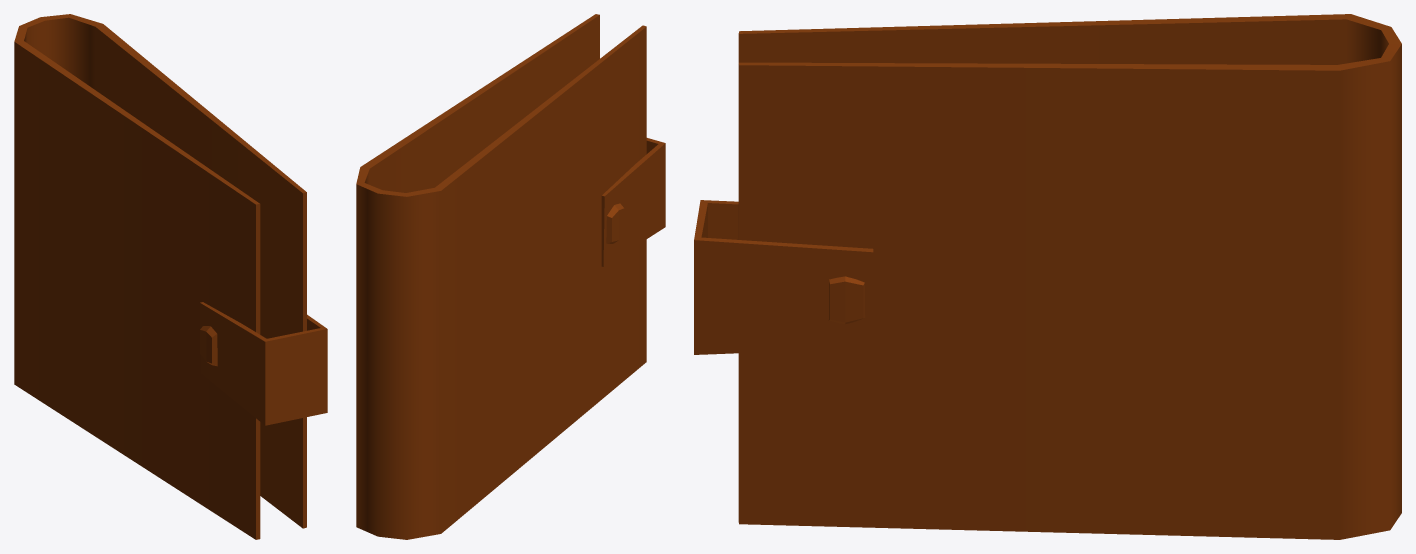
Rendered from SM_Wallet.fbx.
3 views of the same model, side by side, from view 1: azimuth 30°, elevation 25°; view 2: azimuth 150°, elevation 25°; view 3: azimuth 270°, elevation 25° (orthographic). The views are drawn at different scales.
Visible parts, largest first — view 1: SM_Wallet; view 2: SM_Wallet; view 3: SM_Wallet.
Boxes of the visible parts, x1,y1,x2,y2 form: SM_Wallet: (14, 14, 327, 539); SM_Wallet: (356, 14, 665, 539); SM_Wallet: (694, 14, 1401, 539).
Bounding box in the file's own units: 2.49 × 13.14 × 9.61.
1 material, 1 textured.
